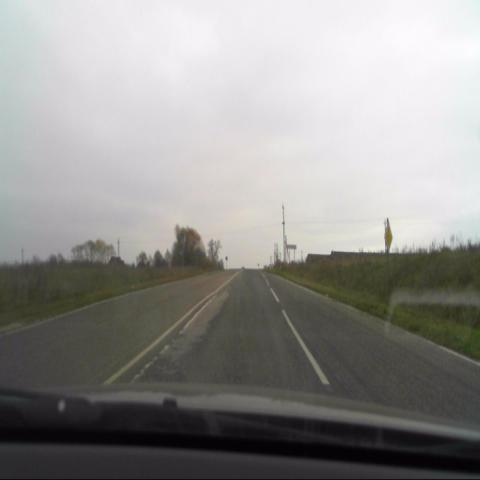2_1: (384, 221, 393, 254)
